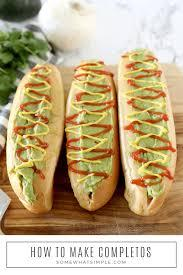Completos: (118, 38, 175, 236), (9, 58, 62, 212), (72, 58, 122, 207)
